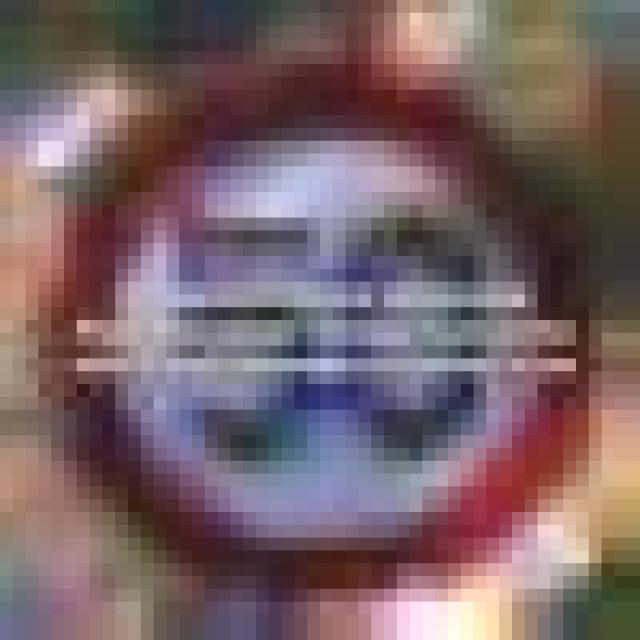SPEED_LIMIT_50: (38, 51, 589, 576)
